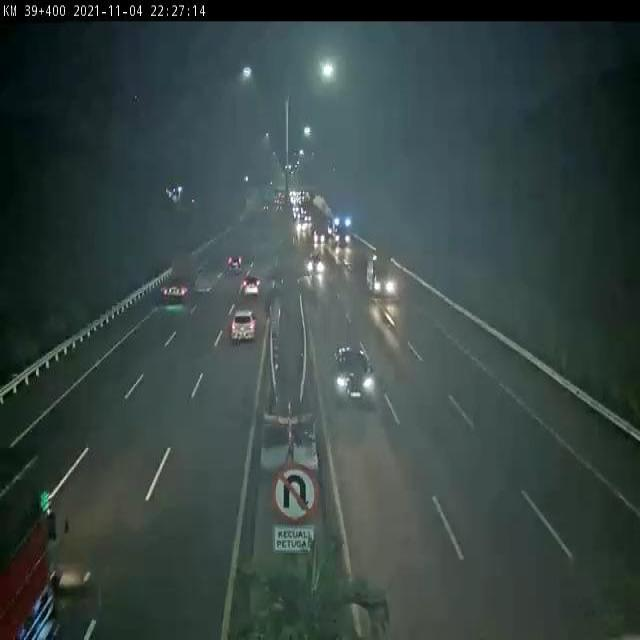car: (333, 344, 374, 400), (230, 307, 256, 341), (241, 275, 262, 296)
truck-m-: (161, 248, 198, 303)
